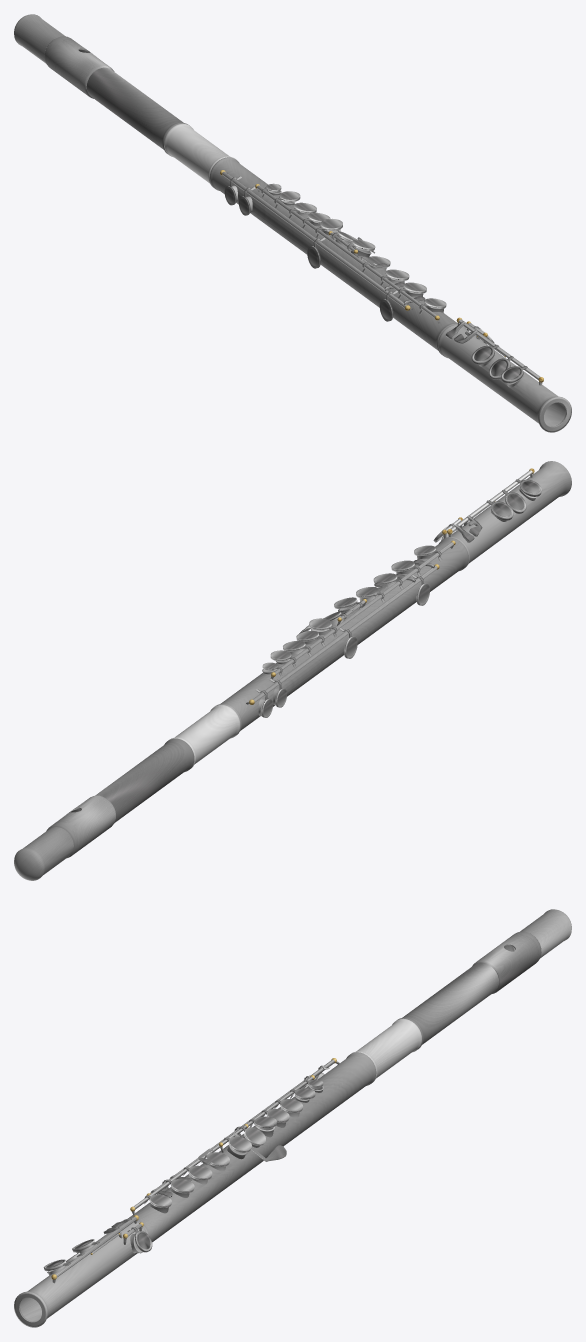
The model's file is flute.glb.
The picture shows the model from 3 angles, top to bottom: view 1: azimuth 30°, elevation 25°; view 2: azimuth 150°, elevation 25°; view 3: azimuth 330°, elevation 25°; orthographic projection.
Visible parts, largest first — view 1: Cylinder, Cylinder.001, Cylinder.004, Cylinder.003; view 2: Cylinder, Cylinder.001, Cylinder.004, Cylinder.003; view 3: Cylinder, Cylinder.001, Cylinder.003.
Part boxes in pixels (x1,y1,x2,y2): Cylinder: (14,14,571,432); Cylinder.001: (44,36,114,98); Cylinder.004: (222,171,406,308); Cylinder.003: (257,185,436,317); Cylinder: (14,461,571,880); Cylinder.001: (46,795,115,857); Cylinder.004: (252,566,437,702); Cylinder.003: (274,542,453,674); Cylinder: (14,909,571,1327); Cylinder.001: (472,931,541,993); Cylinder.003: (133,1076,313,1209).
Size of the model in its own units: 2.6 by 1.96 by 44.85.
6 materials, 5 textured.
